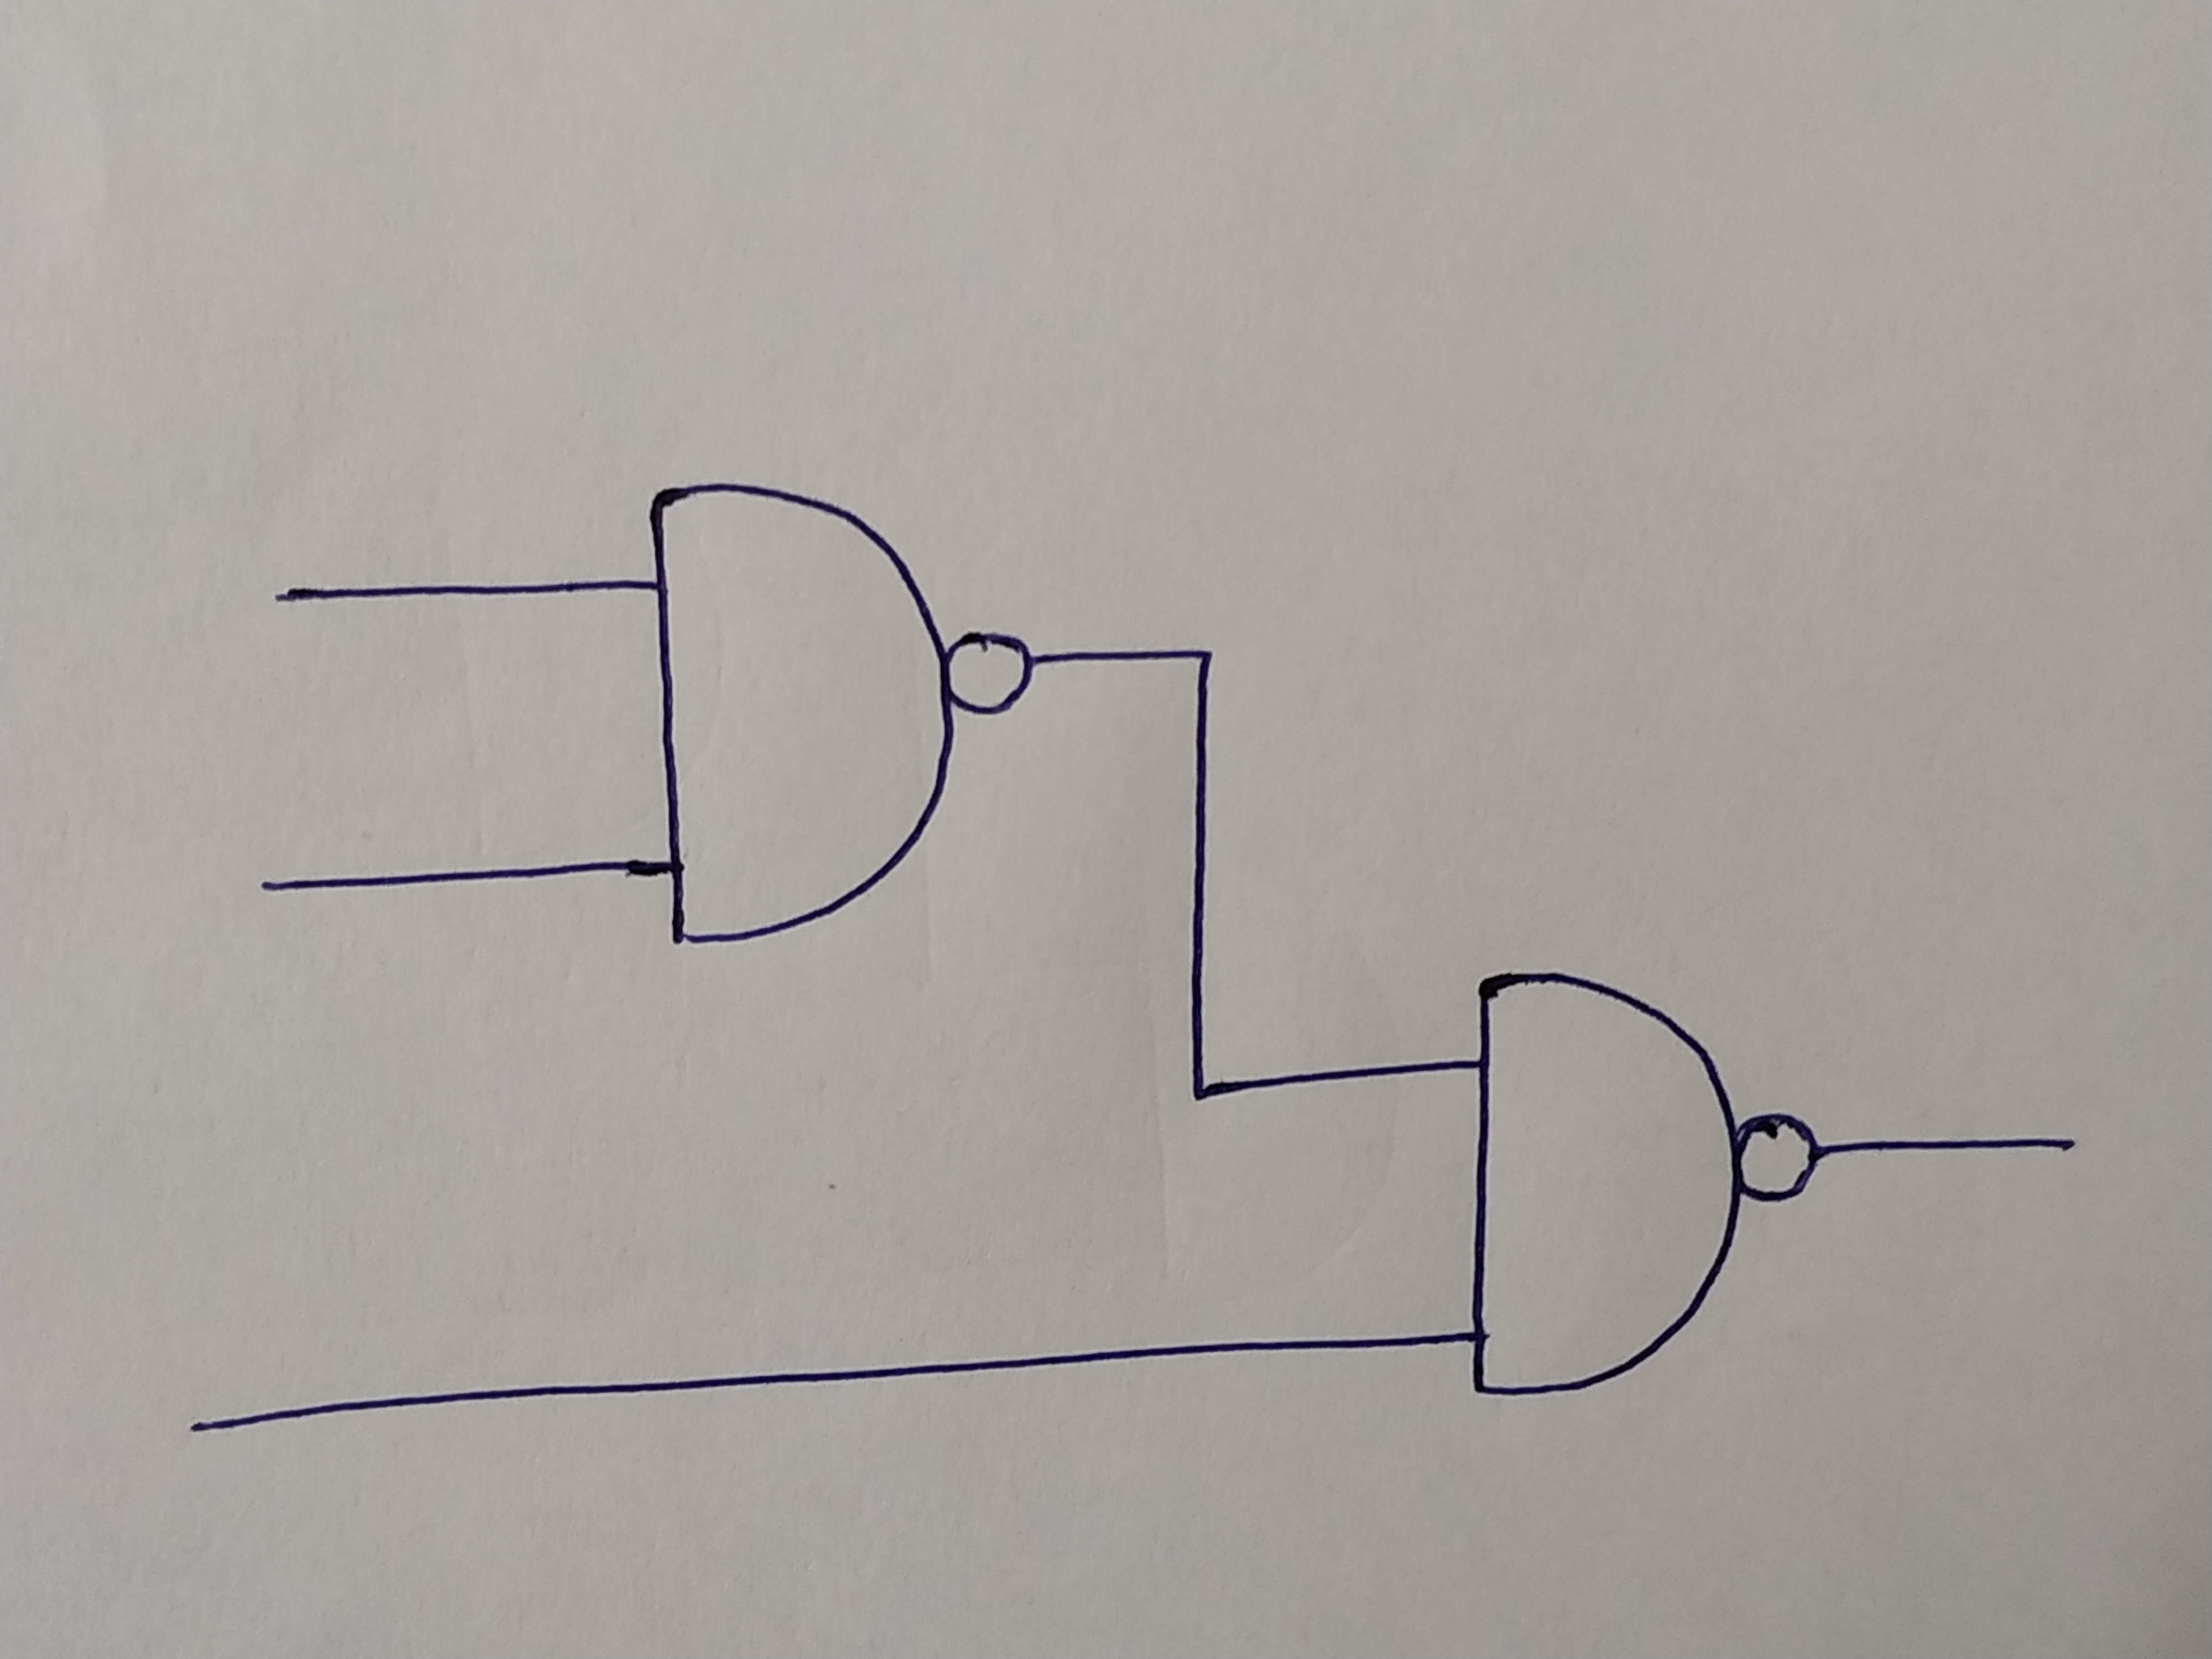and: (646, 488, 949, 946), (1472, 972, 1731, 1403)
not: (944, 629, 1028, 714), (1740, 1115, 1820, 1199)
